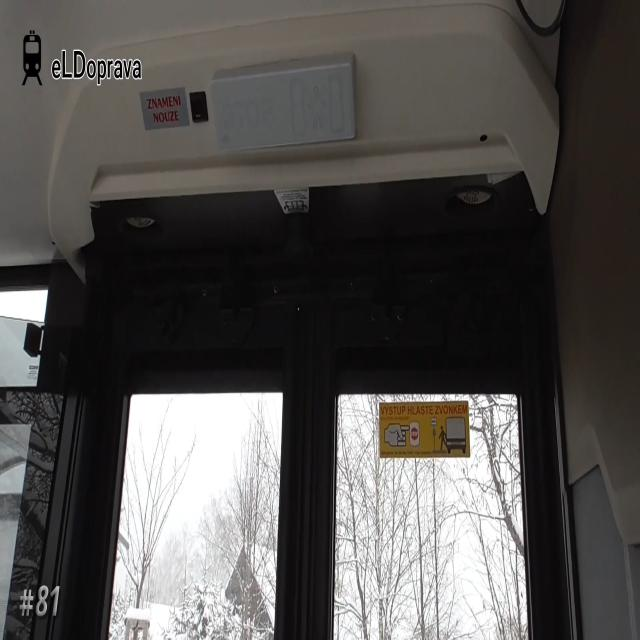bus-door: (80, 284, 560, 640)
